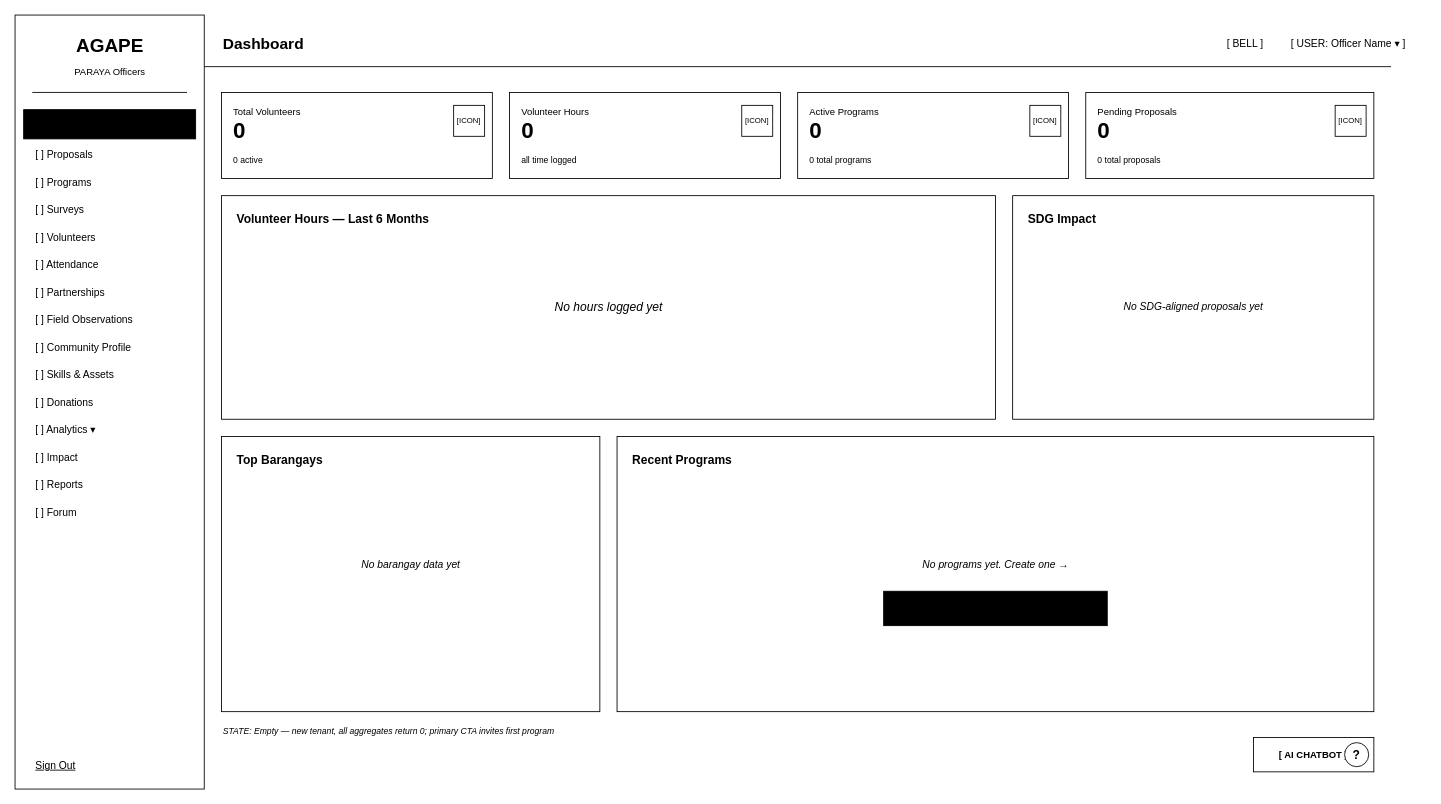
This 1441x804 diagram has some shape labels left out. Each missing label, with the centre of its shape:
"[ + CREATE PROGRAM ]" belongs at pixel 995 608.
"[x] Dashboard" belongs at pixel 109 124.
